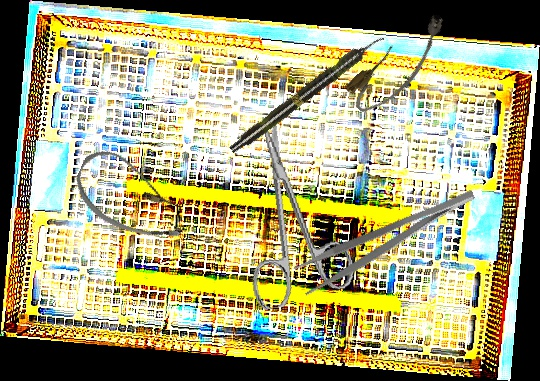Cannula: (64, 142, 201, 252), (340, 7, 461, 121)
Dressing Forceps: (292, 185, 484, 297)
Handpiece: (226, 30, 388, 157)
Iris Scissors: (221, 105, 359, 312)
